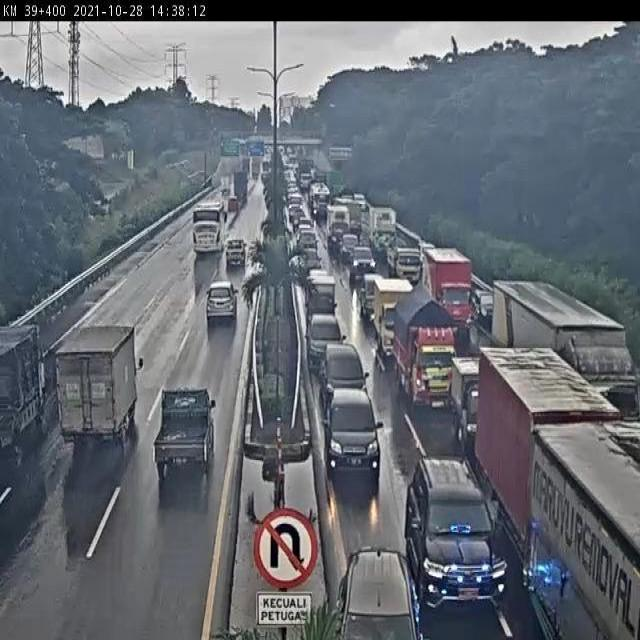big bus: (186, 199, 227, 268)
big truck: (480, 340, 594, 548), (537, 426, 640, 640), (494, 276, 640, 408), (48, 323, 145, 445), (396, 288, 455, 400), (0, 323, 46, 457), (425, 245, 482, 335), (377, 277, 419, 359), (455, 359, 493, 445)
car: (409, 453, 497, 611), (150, 383, 217, 485), (333, 551, 415, 628), (329, 385, 383, 479), (322, 341, 378, 424), (307, 311, 351, 365), (205, 276, 244, 325), (305, 268, 339, 313), (226, 234, 251, 270)
